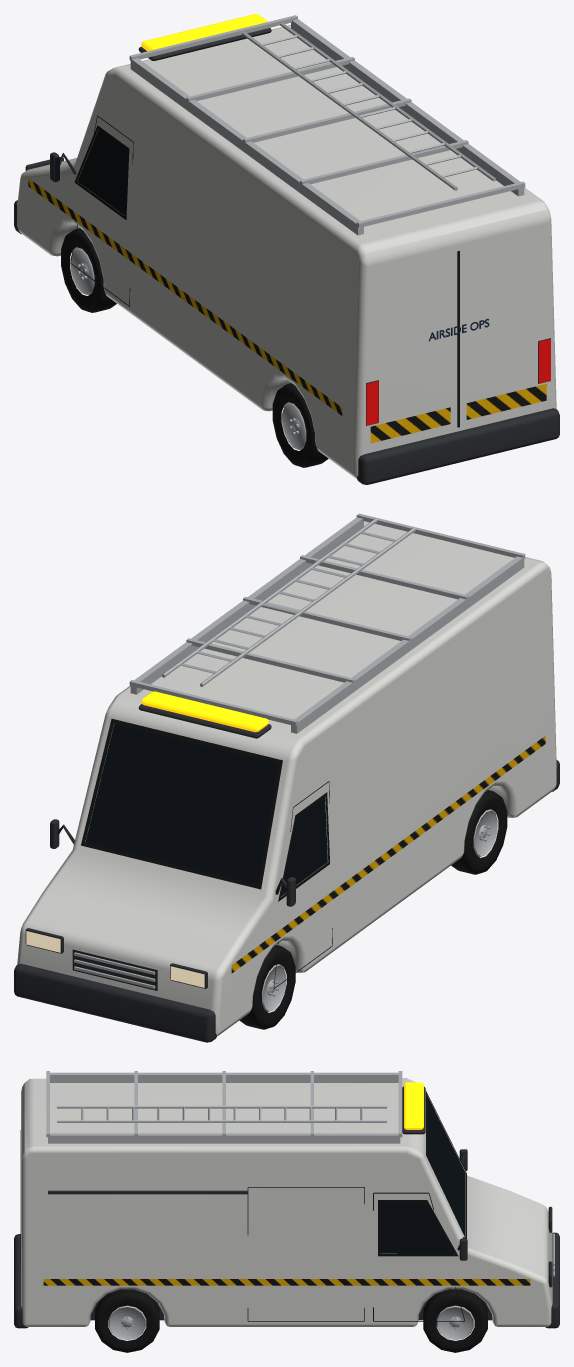
Rendered from service_van.glb.
3 views of the same model, one above another, from view 1: azimuth 30°, elevation 25°; view 2: azimuth 150°, elevation 25°; view 3: azimuth 270°, elevation 25° (orthographic). The views are drawn at different scales.
Visible parts, largest first — view 1: Body, Wheels; view 2: Body, Wheels; view 3: Body, Wheels.
Boxes of the visible parts, x1,y1,x2,y2 form: Body: (14,14,559,484); Wheels: (61,228,328,467); Body: (14,513,559,1042); Wheels: (239,790,507,1029); Body: (14,1071,559,1328); Wheels: (95,1289,487,1352).
Size of what is drawn, in the model's own units: 2.42 by 2.7 by 6.09.
9 materials, 3 textured.
